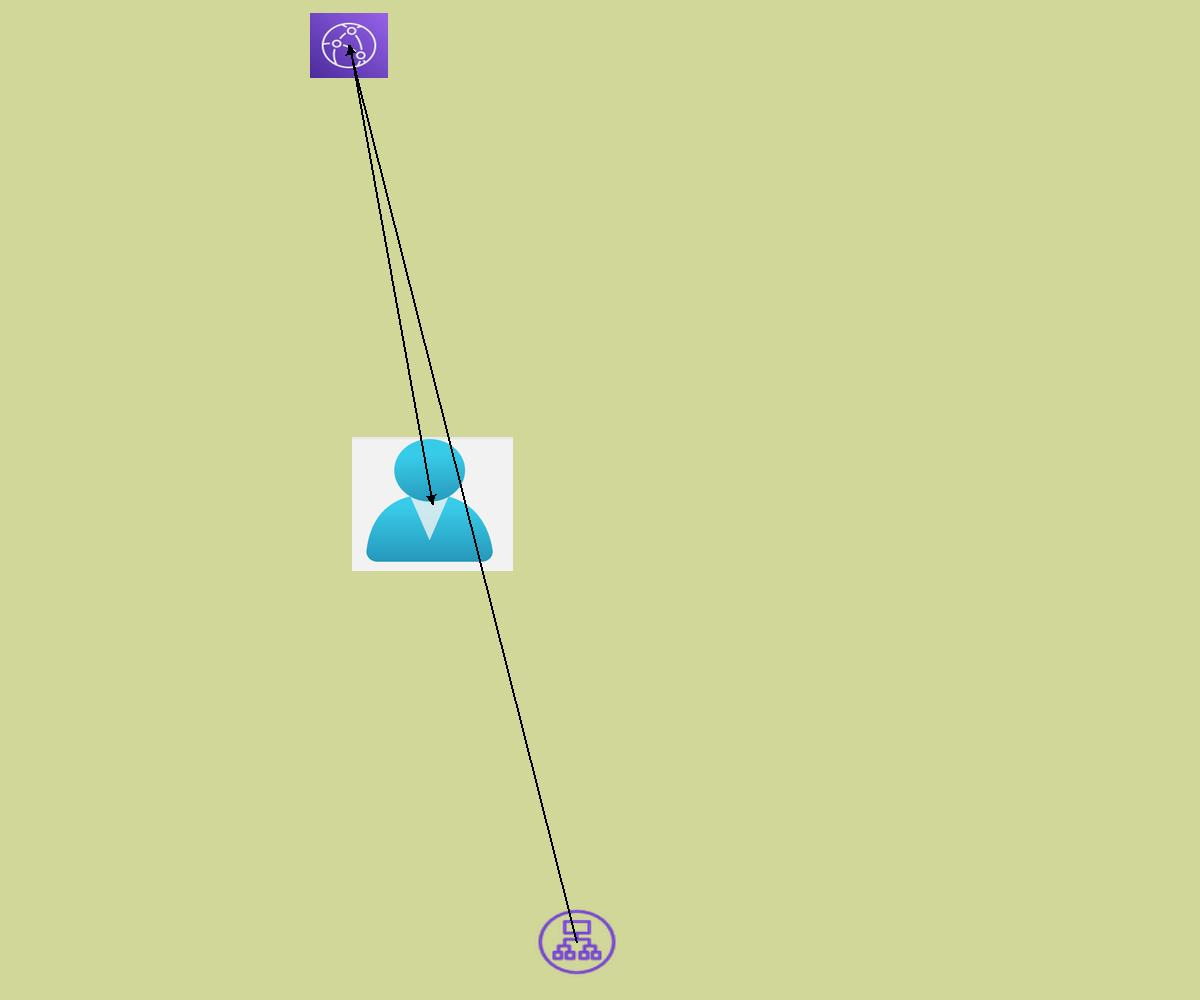AWS-CloudFront: (310, 13, 388, 78)
AWS-Res_Elastic-Load-Balancing_Application-Load-Balancer: (535, 907, 619, 977)
Azure_users: (352, 437, 513, 571)
